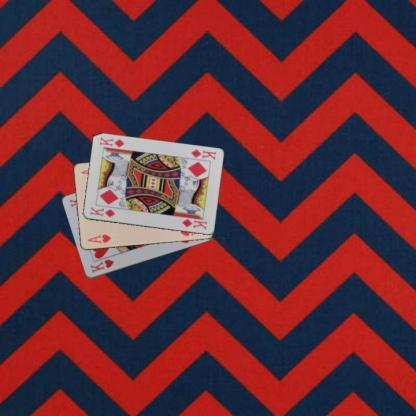Ah: (85, 232, 112, 246)
Kd: (188, 146, 218, 162), (88, 204, 116, 219)
Kh: (87, 257, 115, 274)
